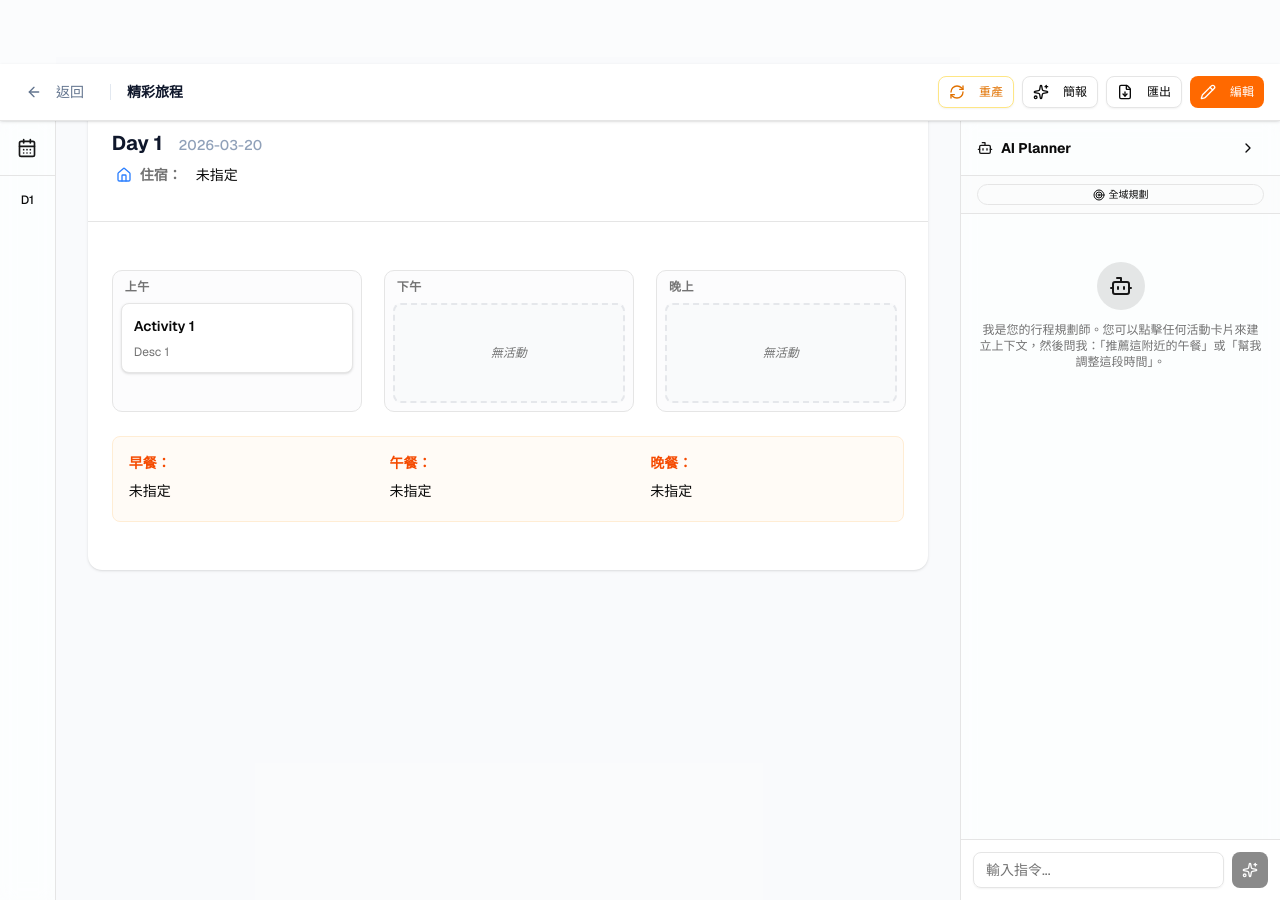
Test case: ItineraryEditor Bug Repro › restores data after cancel
Click the button "編輯" at (1227, 92), box left=1190, top=76, right=1264, bottom=108
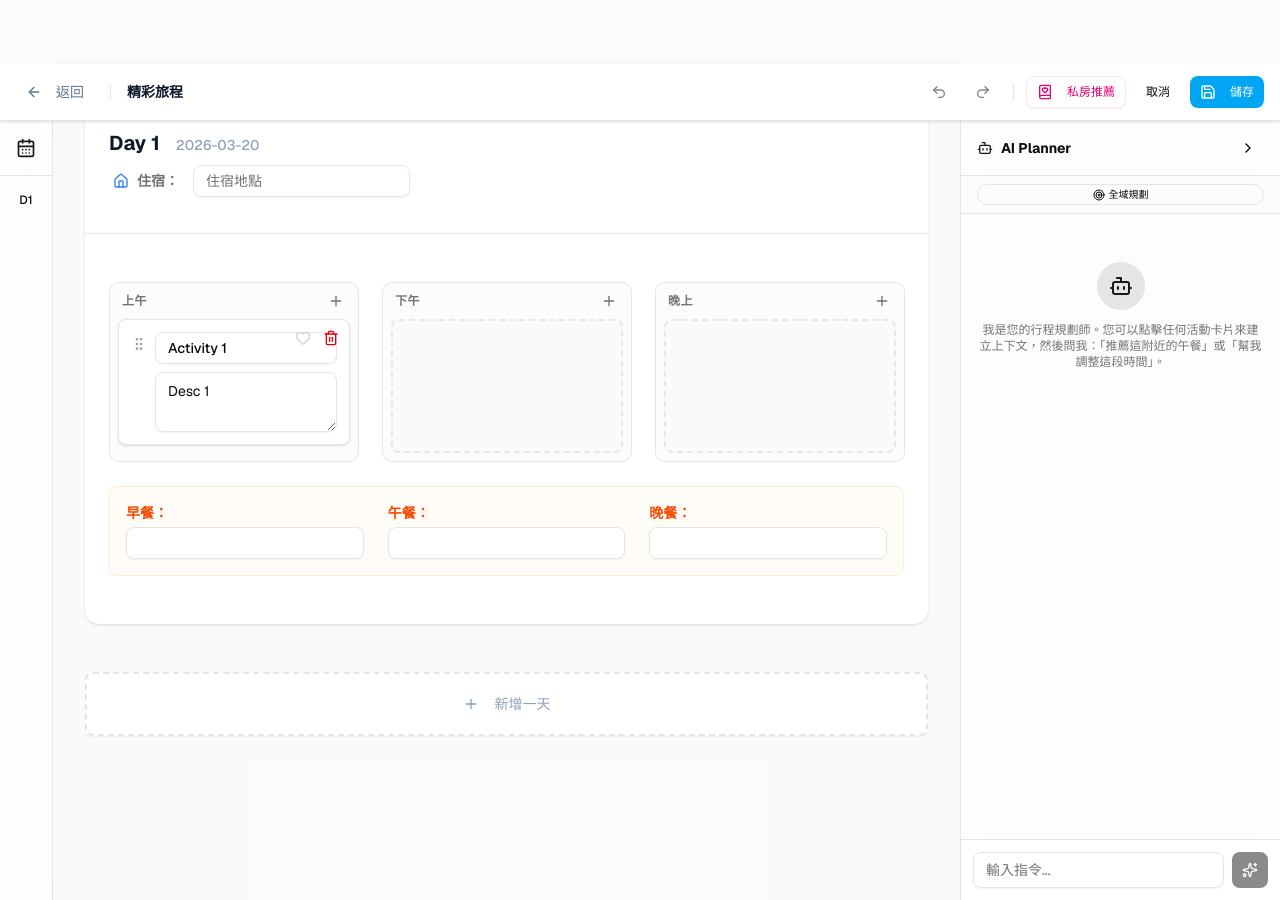
Note: Delete the activity
Click the button named "刪除活動" at (331, 338), box left=321, top=328, right=341, bottom=348
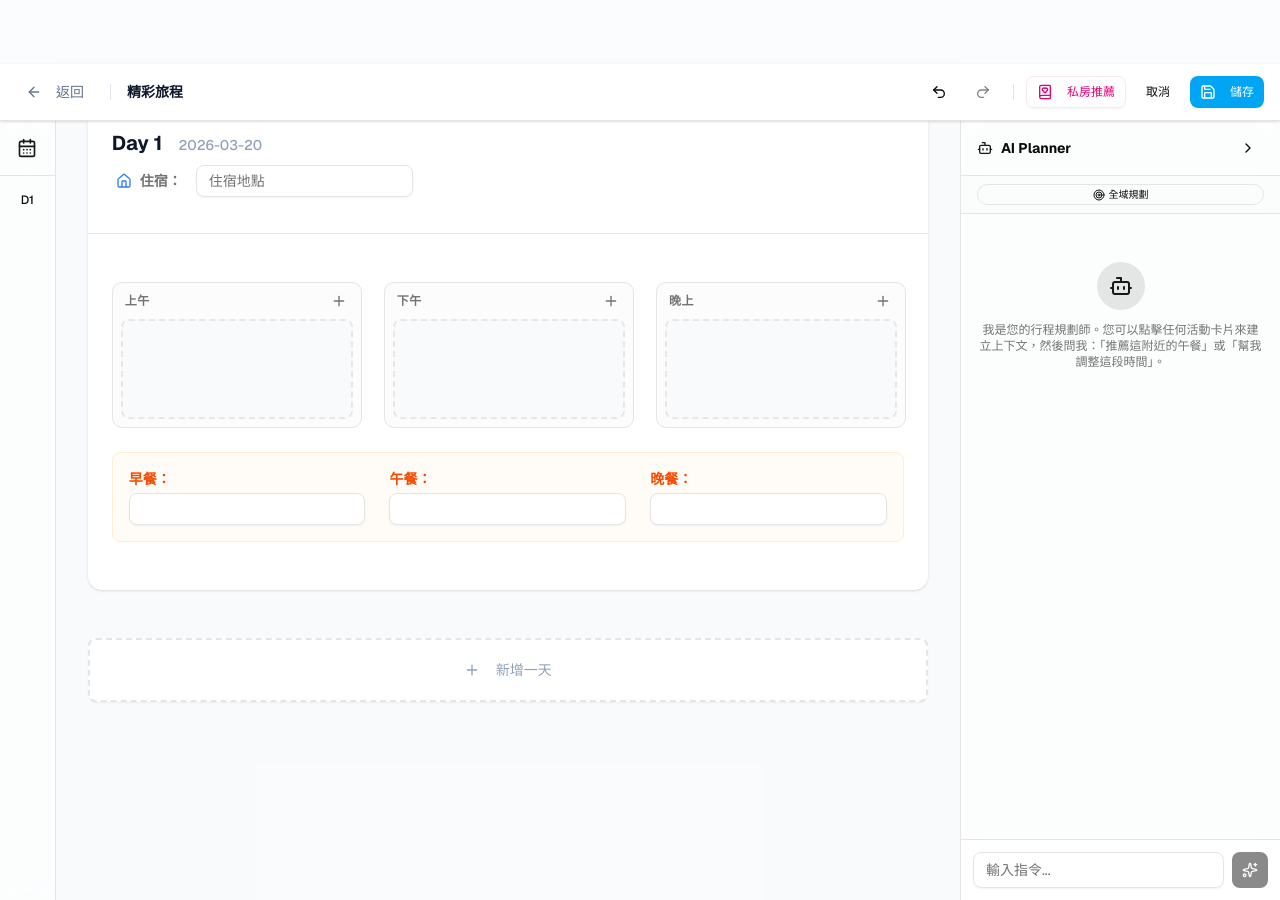
Expected: the text showing "Activity 1" is not shown
Note: Click Cancel
Click the button "取消" at (1158, 92), box left=1134, top=76, right=1182, bottom=108
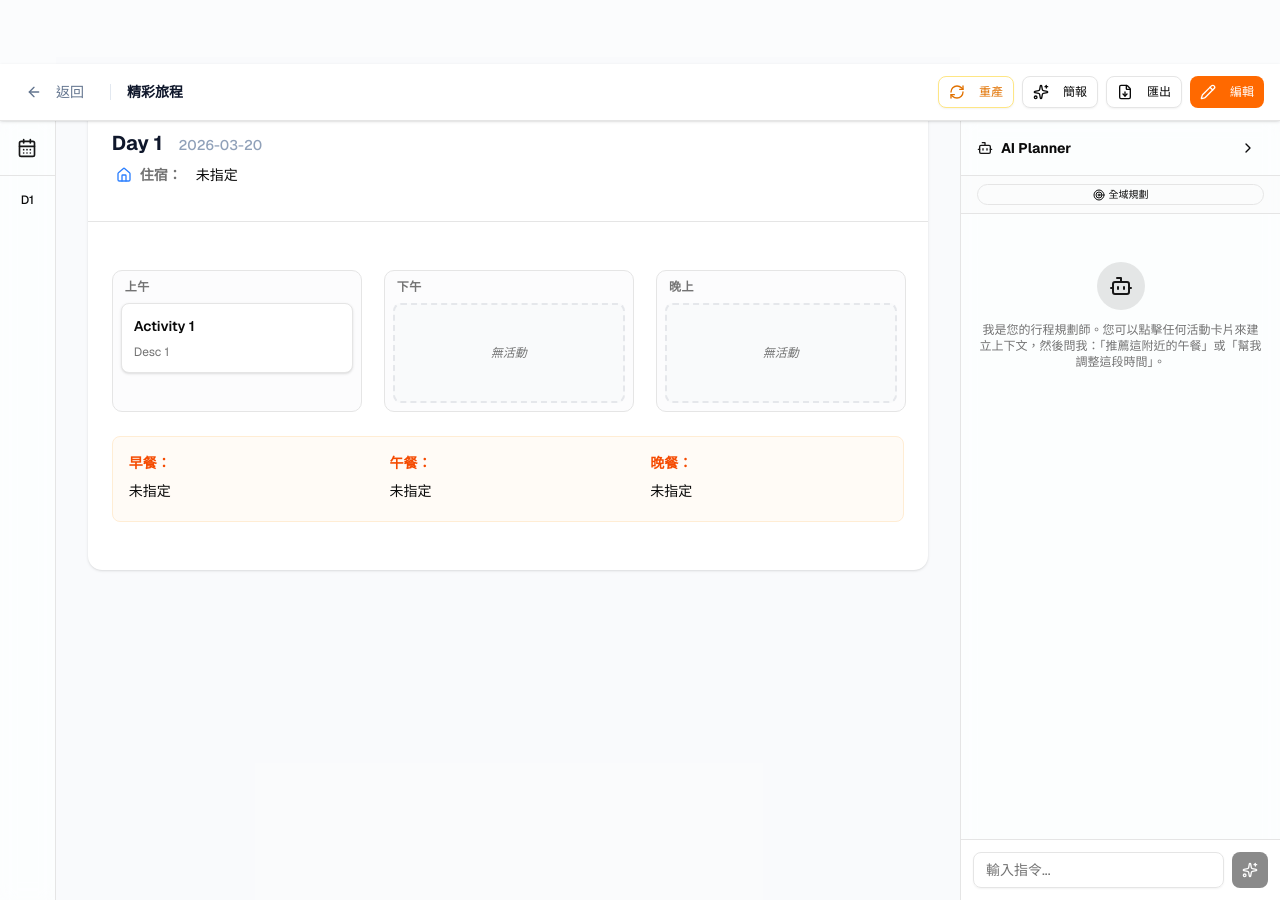
Expected: the text "Activity 1" is shown, left=134, top=317, right=195, bottom=335
